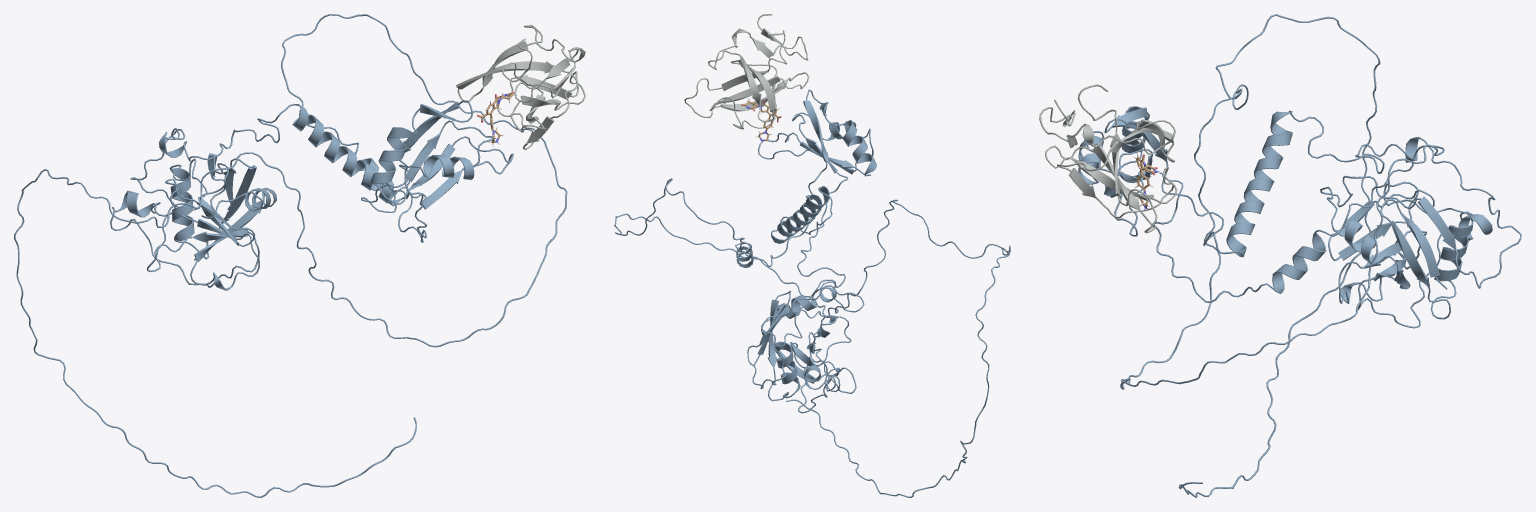
The picture shows the model from 3 angles, left to right: view 1: azimuth 30°, elevation 25°; view 2: azimuth 150°, elevation 25°; view 3: azimuth 270°, elevation 25°; orthographic projection. The views are drawn at different scales.
Parts seen in each view (by area): view 1: node-geom100, node-geom101; view 2: node-geom100, node-geom101; view 3: node-geom100, node-geom101.
Part boxes in pixels (x1,y1,x2,y2): node-geom100: (110,24,585,290); node-geom101: (14,14,567,497); node-geom100: (684,14,864,413); node-geom101: (614,89,1010,497); node-geom100: (1039,84,1521,328); node-geom101: (1078,14,1444,497).
Size of the model in its own units: 131 by 118 by 104.
